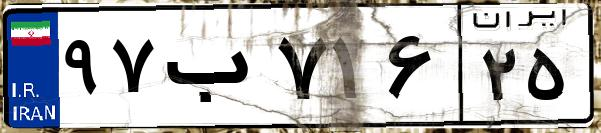1: (330, 28, 385, 110)
2: (475, 38, 525, 113)
5: (525, 38, 570, 115)
6: (385, 28, 445, 110)
7: (270, 28, 330, 110), (110, 28, 158, 98)
9: (57, 26, 110, 100)
ب: (158, 20, 270, 120)
